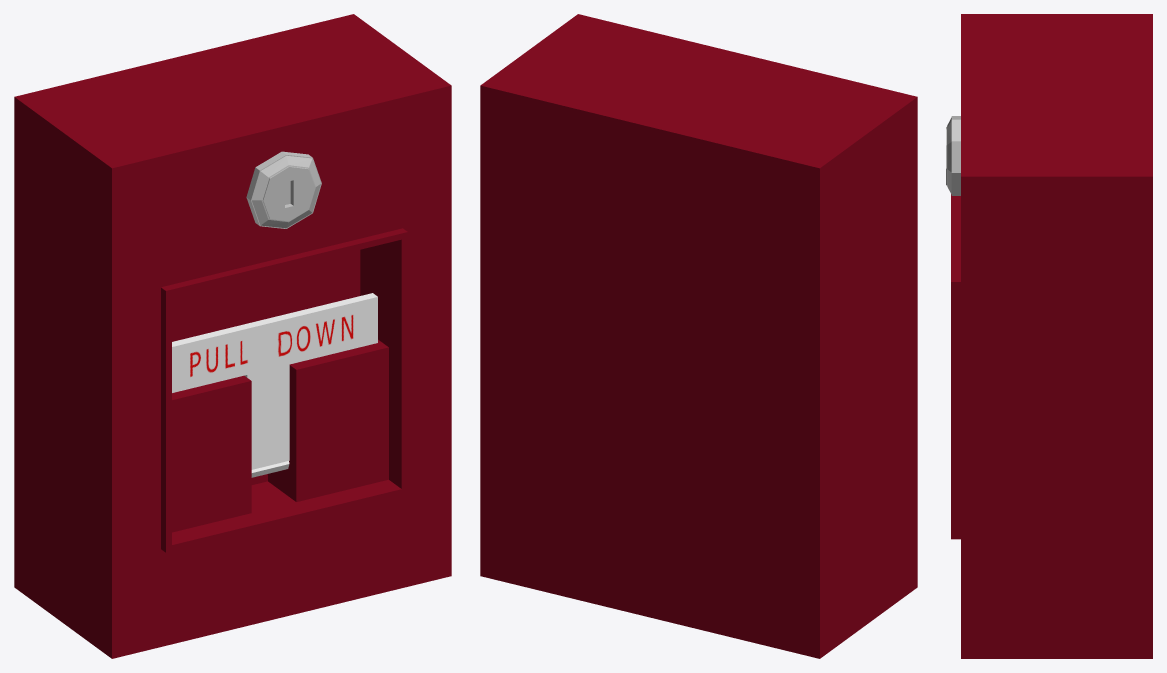
File: 30a23971-aac5-4fa7-9a61-ba427176090b.glb
3 views of the same model, side by side, from view 1: azimuth 30°, elevation 25°; view 2: azimuth 150°, elevation 25°; view 3: azimuth 270°, elevation 25° (orthographic).
Parts seen in each view (by area): view 1: Node; view 2: Node; view 3: Node.
Boxes of the visible parts, x1,y1,x2,y2 form: Node: [14, 14, 451, 658]; Node: [480, 14, 917, 658]; Node: [946, 14, 1152, 658].
Size of the model in its own units: 1.55 by 2.14 by 0.8327.
Materials: 4 (1 with a texture image).
